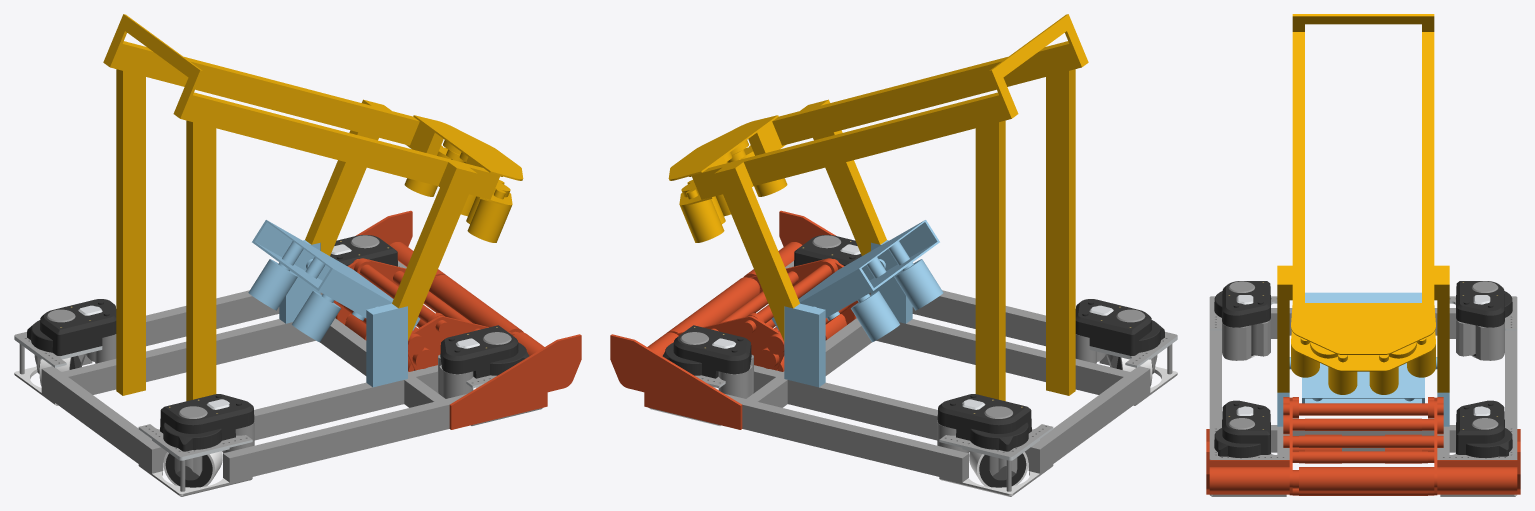
3 views of the same model, side by side, from view 1: azimuth 30°, elevation 25°; view 2: azimuth 150°, elevation 25°; view 3: azimuth 270°, elevation 25° (orthographic). The views are drawn at different scales.
Visible parts, largest first — view 1: outter(static) stage, db, intake, shooter; view 2: outter(static) stage, db, intake, shooter; view 3: outter(static) stage, db, intake, shooter.
Boxes of the visible parts, bbox=[...] form: outter(static) stage: bbox=[103, 14, 523, 401]; db: bbox=[14, 235, 542, 496]; intake: bbox=[333, 210, 581, 429]; shooter: bbox=[248, 220, 420, 387]; outter(static) stage: bbox=[668, 14, 1088, 401]; db: bbox=[649, 235, 1177, 496]; intake: bbox=[610, 210, 858, 429]; shooter: bbox=[771, 220, 943, 387]; outter(static) stage: bbox=[1277, 14, 1449, 394]; db: bbox=[1209, 281, 1517, 496]; intake: bbox=[1206, 397, 1520, 495]; shooter: bbox=[1277, 292, 1449, 426].
Size of the model in its own units: 0.9027 by 0.8086 by 0.6477.
